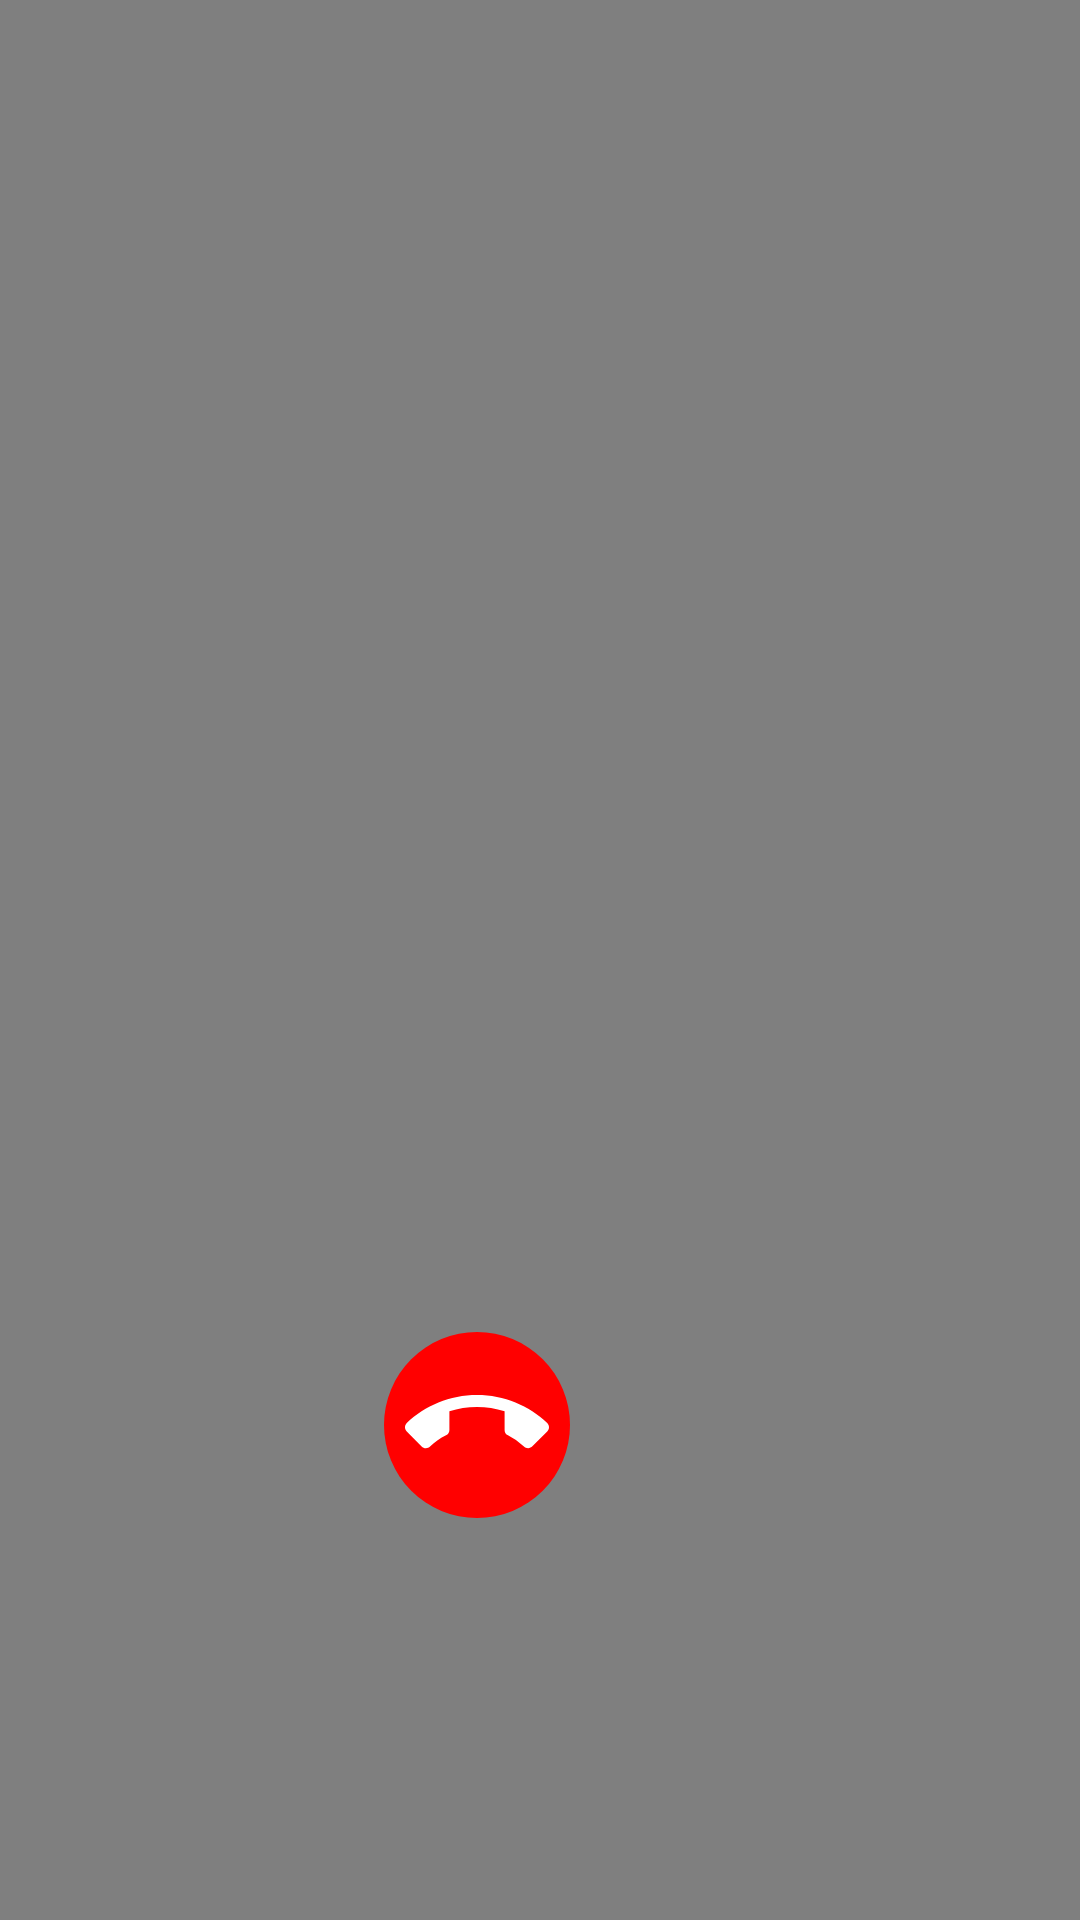

Screen size 1080px×1920px. Icon name, then its box in pixels as bbox=[x1, y1, x2, y2]:
end call: bbox=[384, 1332, 570, 1518]
